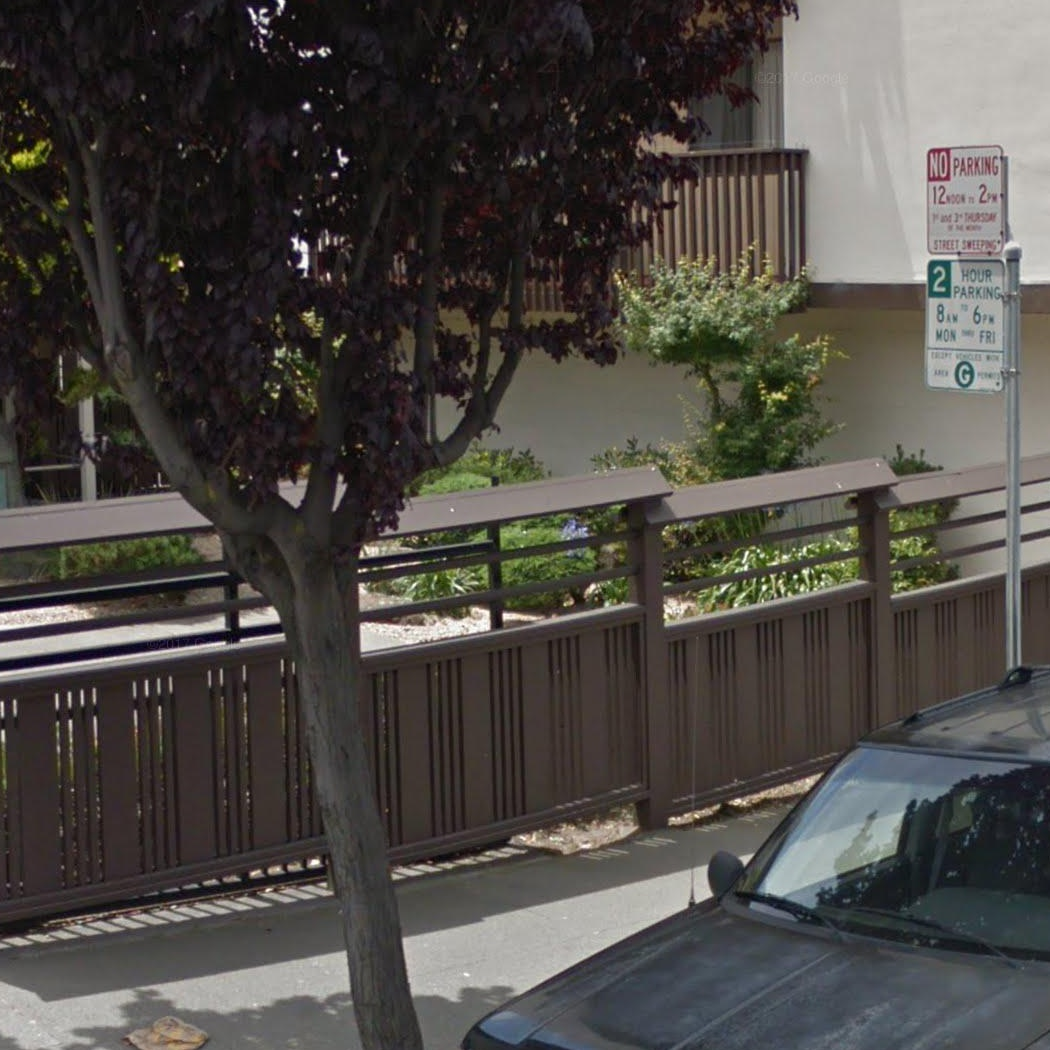2 Hour Parking: (924, 259, 1008, 392)
No Parking: (927, 144, 1008, 257)
